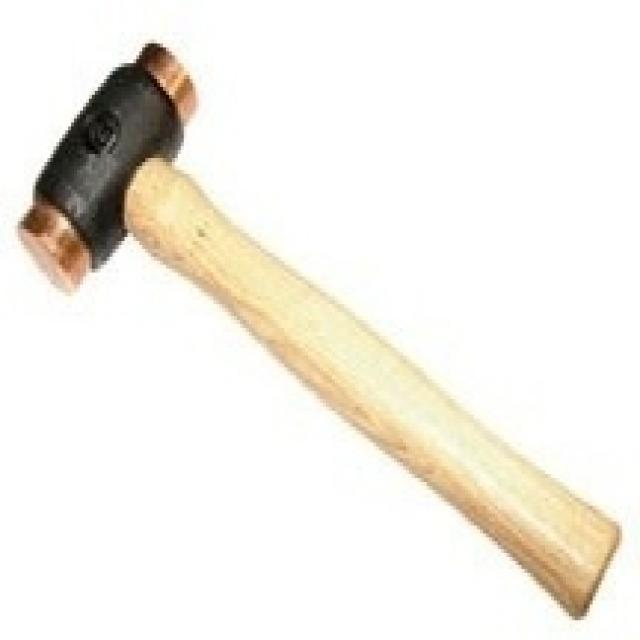hammer: (9, 25, 629, 632)
